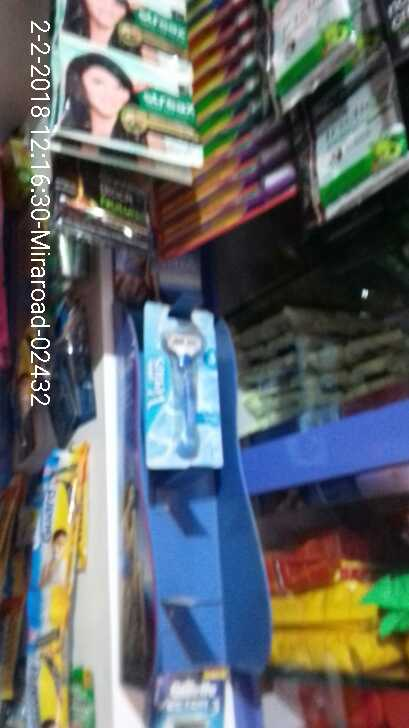venus: (141, 299, 222, 471)
